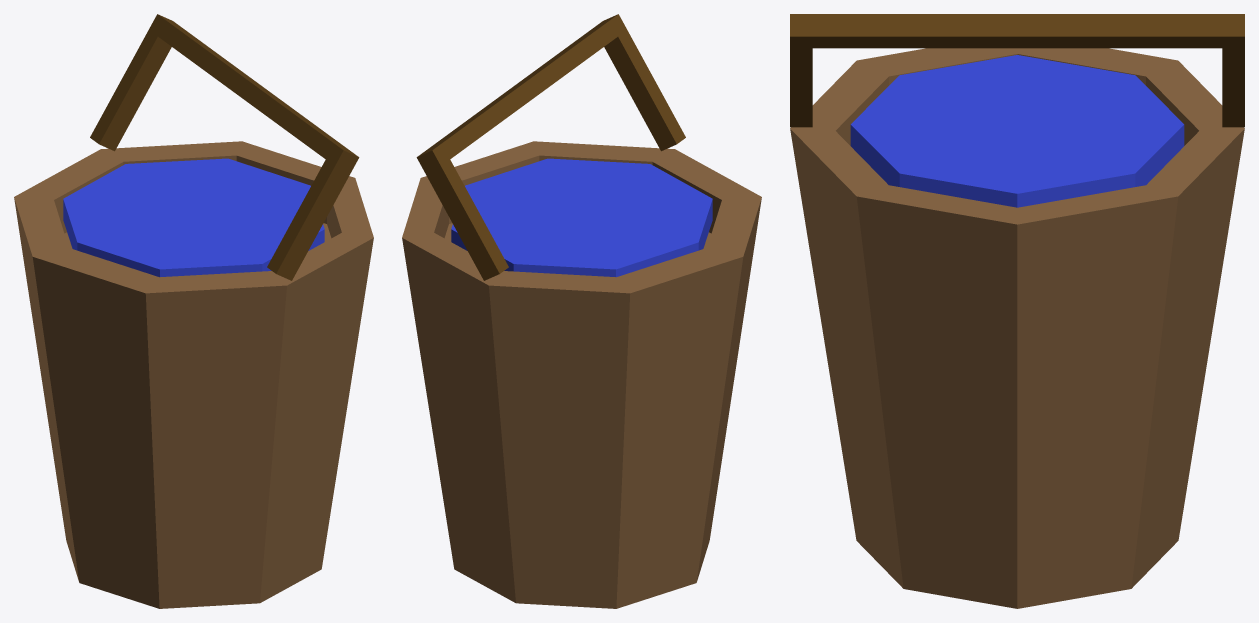
File: bucket-3d.glb
3 renders of one model, left to right at view 1: azimuth 30°, elevation 25°; view 2: azimuth 150°, elevation 25°; view 3: azimuth 270°, elevation 25°, orthographic. The views are drawn at different scales.
Parts seen in each view (by area): view 1: Cylinder, Cylinder.002, Cube; view 2: Cylinder, Cylinder.002, Cube; view 3: Cylinder, Cylinder.002, Cube.
Boxes of the visible parts, box(x1,y1,x2,y2) form: Cylinder: box(14, 141, 373, 608); Cylinder.002: box(63, 158, 324, 277); Cube: box(90, 14, 359, 280); Cylinder: box(402, 141, 761, 608); Cylinder.002: box(451, 158, 712, 277); Cube: box(416, 14, 685, 280); Cylinder: box(790, 48, 1244, 608); Cylinder.002: box(850, 55, 1184, 207); Cube: box(790, 14, 1244, 127).
Bounding box in the file's own units: 2 × 2.72 × 2.
